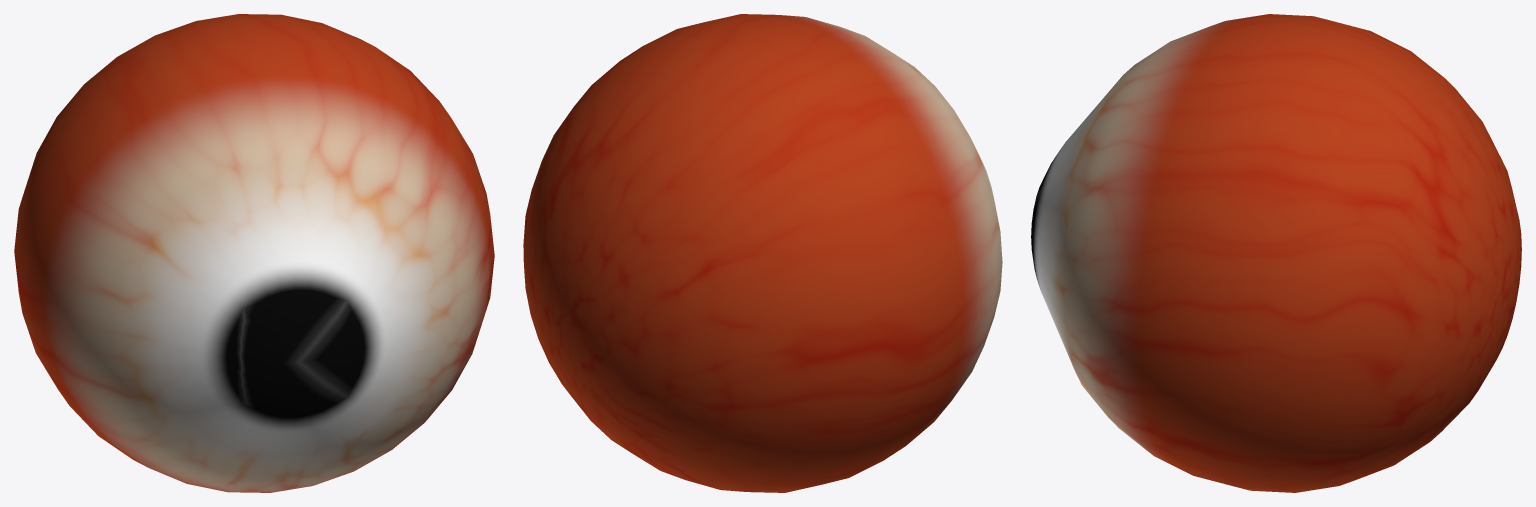
Rendered from palhaco_olho.glb.
3 views of the same model, side by side, from view 1: azimuth 30°, elevation 25°; view 2: azimuth 150°, elevation 25°; view 3: azimuth 270°, elevation 25° (orthographic).
Parts seen in each view (by area): view 1: sclera cornea_export; view 2: sclera cornea_export; view 3: sclera cornea_export.
Boxes of the visible parts, x1=… form: sclera cornea_export: x1=14, y1=14, x2=494, y2=492; sclera cornea_export: x1=523, y1=14, x2=1002, y2=492; sclera cornea_export: x1=1031, y1=14, x2=1521, y2=492.
Size of the model in its own units: 0.0163 by 0.0164 by 0.0167.
2 materials, 2 textured.
